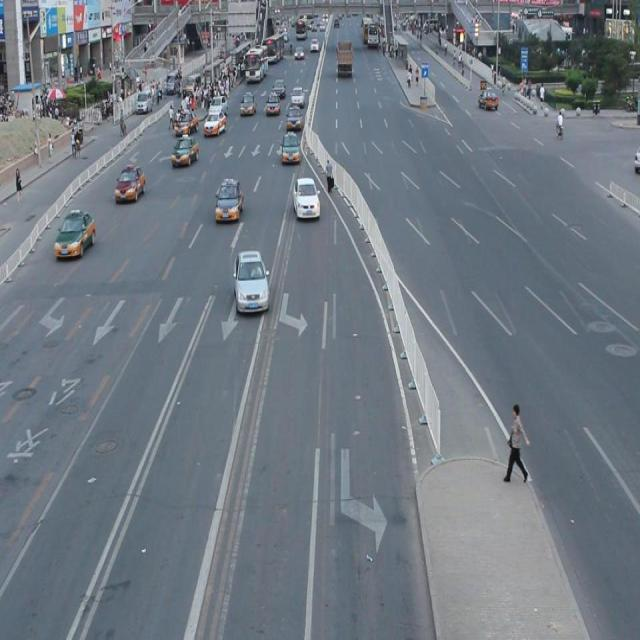car: (232, 247, 269, 314), (53, 208, 96, 259), (214, 176, 244, 222), (292, 175, 321, 220), (113, 164, 147, 202)
